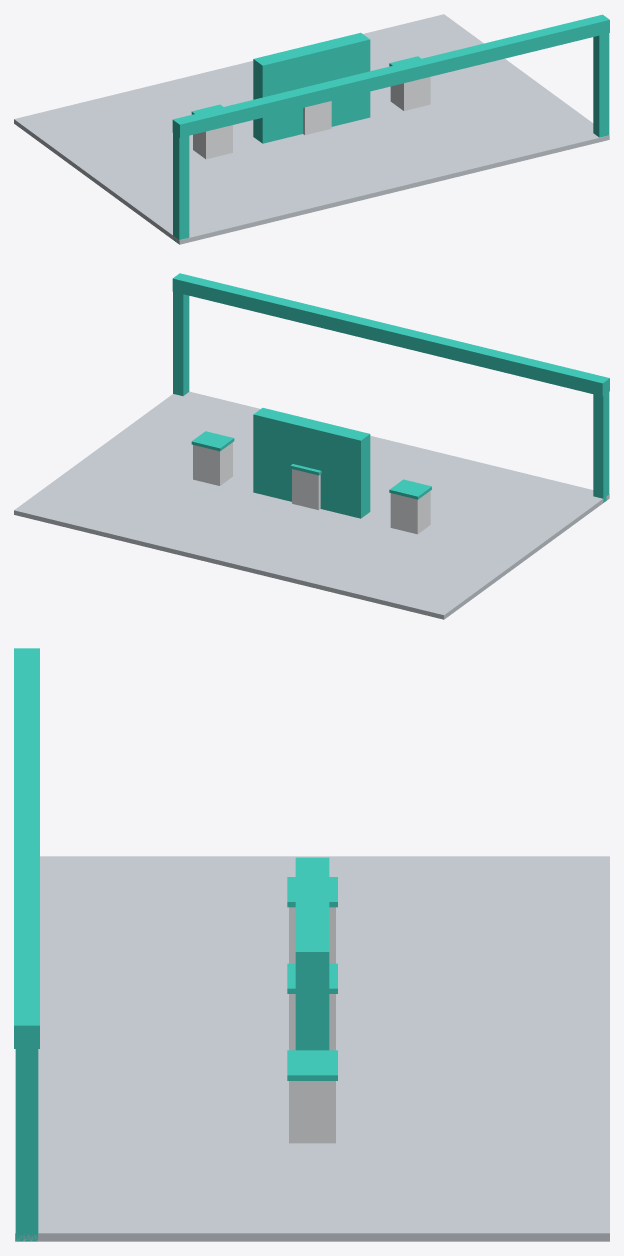
3 renders of one model, top to bottom at view 1: azimuth 30°, elevation 25°; view 2: azimuth 150°, elevation 25°; view 3: azimuth 270°, elevation 25°, orthographic. The views are drawn at different scales.
Visible parts, largest first — view 1: Exhibition Booth Concept; view 2: Exhibition Booth Concept; view 3: Exhibition Booth Concept.
Boxes of the visible parts, box(x1,y1,x2,y2) form: Exhibition Booth Concept: box(14, 14, 609, 244); Exhibition Booth Concept: box(14, 273, 609, 619); Exhibition Booth Concept: box(14, 648, 609, 1241).
Size of the model in its own units: 12 by 3.2 by 8.01.
